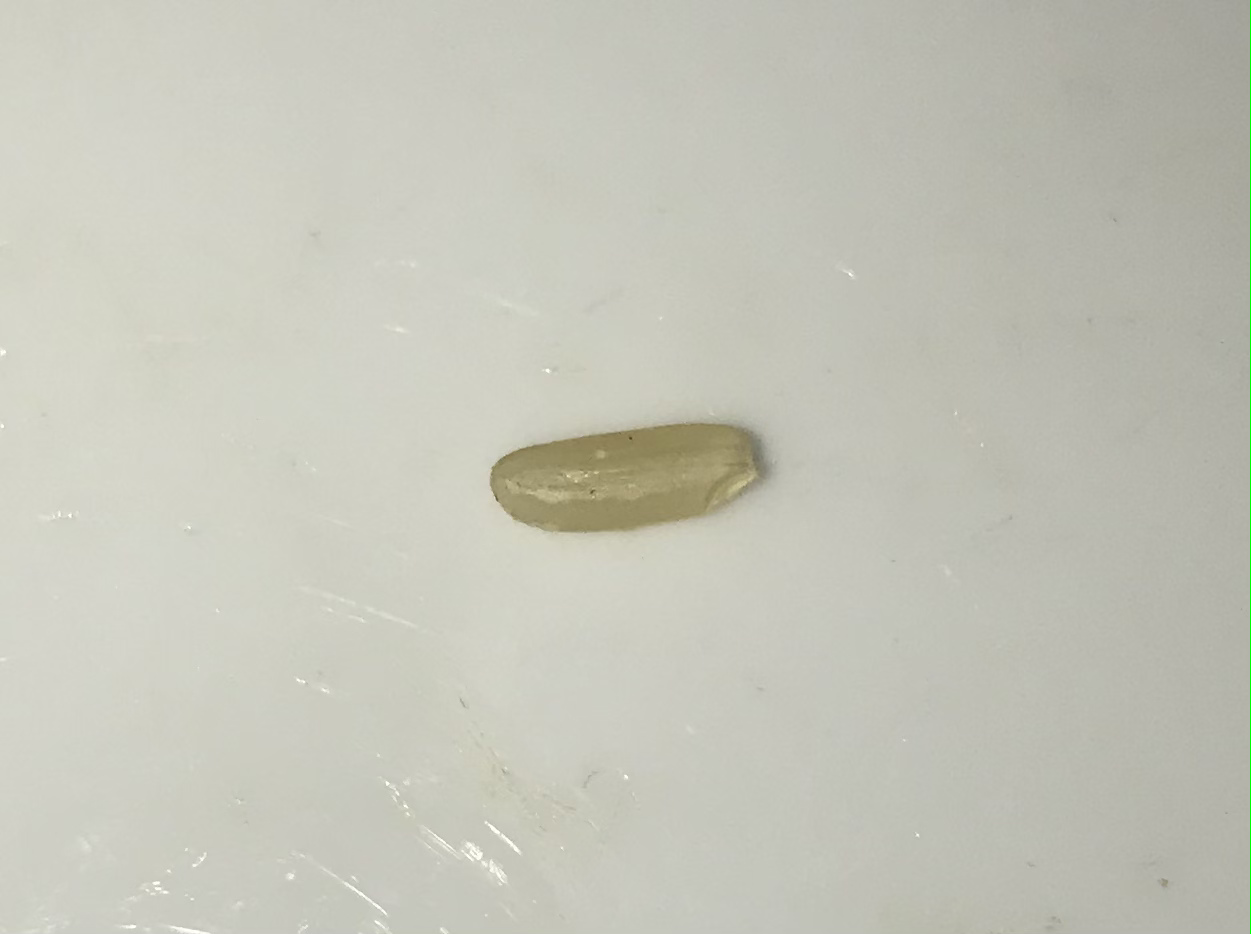Gao Lut Trang: (464, 399, 771, 552)
